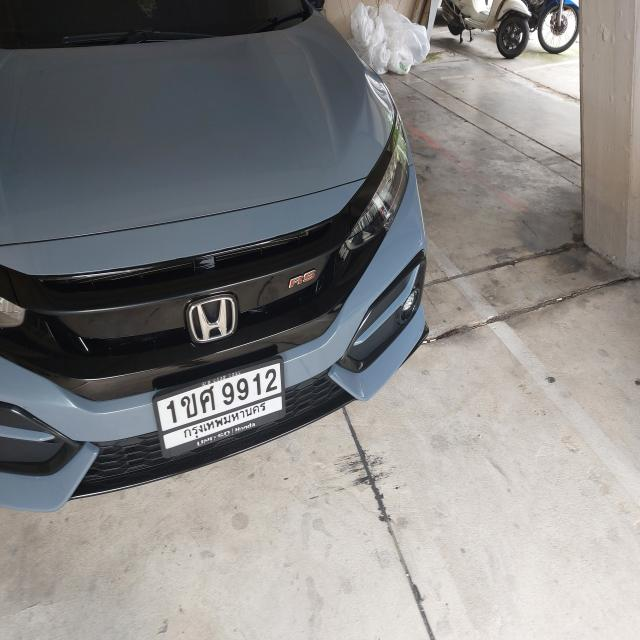license_plate: (152, 350, 289, 460)
